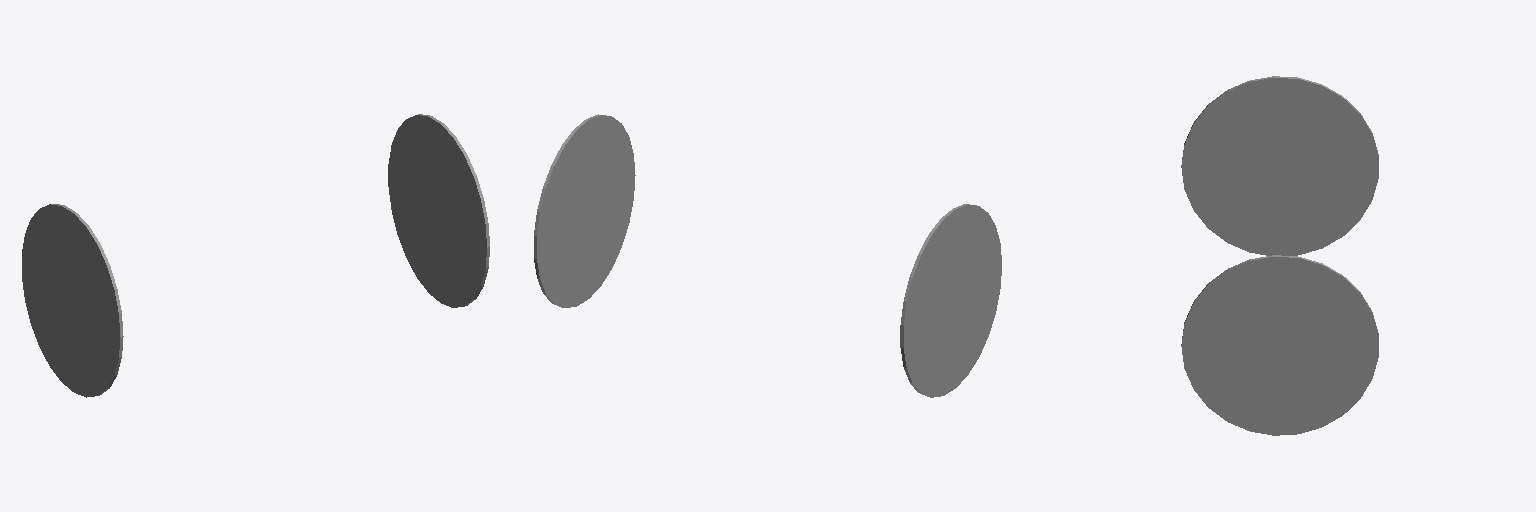
The model's file is ruote_anteriori_OriginCentered.obj.
3 renders of one model, left to right at view 1: azimuth 30°, elevation 25°; view 2: azimuth 150°, elevation 25°; view 3: azimuth 270°, elevation 25°, orthographic.
Parts seen in each view (by area): view 1: Geometry.001; view 2: Geometry.001; view 3: Geometry.001.
Part boxes in pixels (x1,y1,x2,y2): Geometry.001: (22,114,489,397); Geometry.001: (534,114,1001,397); Geometry.001: (1181,76,1378,435).
Bounding box in the file's own units: 1.08 × 0.499 × 0.498.